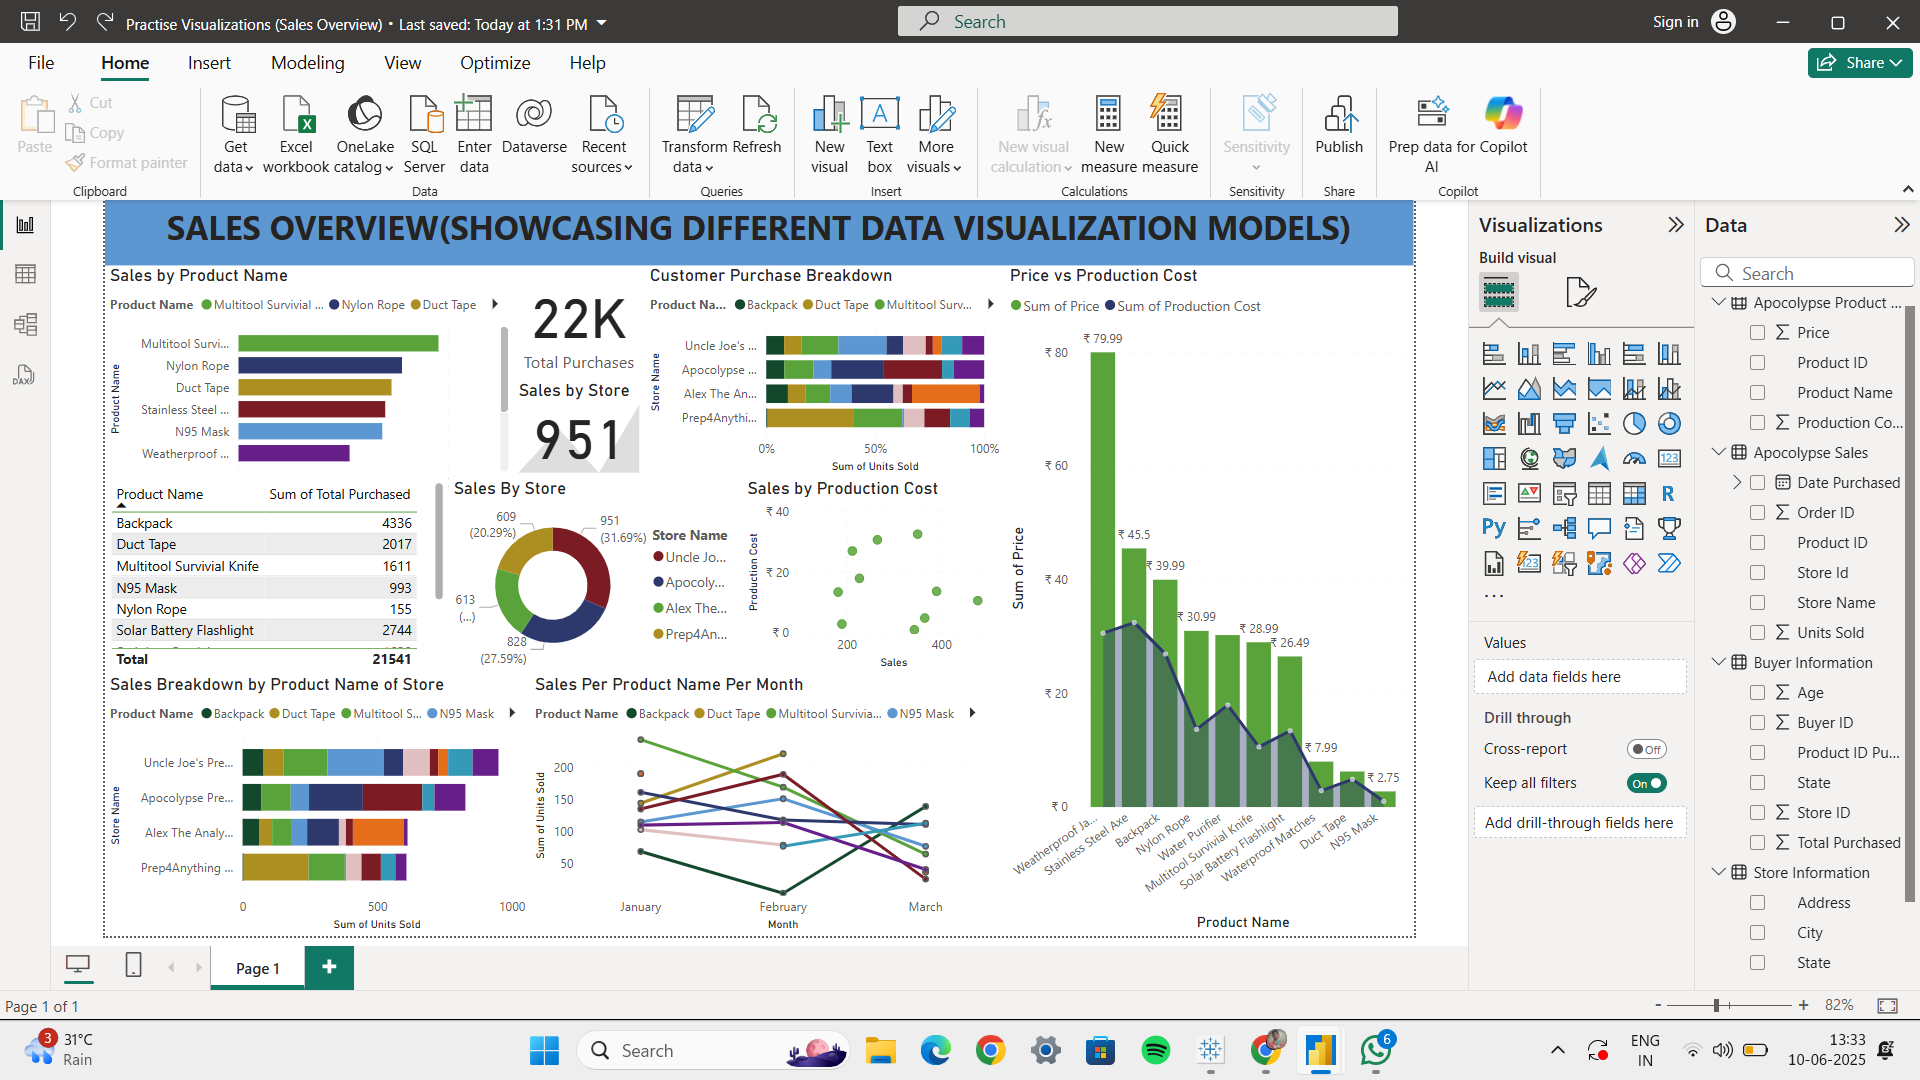

What the dashboard file says about the page in this screenshot:
{"tool":"powerbi","page":{"name":"Page 1","canvas":[1280,720],"ordinal":0},"visuals":[{"type":"barChart","title":"Sales by Product Name","fields":{"Y":["Apocolypse Sales.Units Sold"],"Category":["Apocolypse Product Information.Product Name"],"Series":["Apocolypse Product Information.Product Name"]},"box":[0,63.6,399.9,240.9],"z":0},{"type":"hundredPercentStackedBarChart","title":"Customer Purchase Breakdown","fields":{"Category":["Apocolypse Sales.Store Name"],"Y":["Apocolypse Sales.Units Sold"],"Series":["Apocolypse Product Information.Product Name"]},"box":[528,64,352,208],"z":1000},{"type":"barChart","title":"Sales Breakdown by Product Name of Store","fields":{"Y":["Apocolypse Sales.Units Sold"],"Category":["Apocolypse Sales.Store Name"],"Series":["Apocolypse Product Information.Product Name"]},"box":[0,464,416,256],"z":2000},{"type":"lineChart","title":"Sales Per Product Name Per Month","fields":{"Category":["Apocolypse Sales.Date Purchased.Variation.Date Hierarchy.Month","Apocolypse Sales.Date Purchased.Variation.Date Hierarchy.Day"],"Y":["Apocolypse Sales.Units Sold"],"Series":["Apocolypse Product Information.Product Name"]},"box":[416,464,448,256],"z":3000},{"type":"lineStackedColumnComboChart","title":"Price vs  Production Cost","fields":{"Category":["Apocolypse Product Information.Product Name"],"Y":["Apocolypse Product Information.Price"],"Y2":["Apocolypse Product Information.Production Cost"]},"box":[880,64,400,656],"z":4000},{"type":"donutChart","title":"Sales By Store","fields":{"Category":["Store Information.Store Name"],"Y":["Apocolypse Sales.Units Sold"]},"box":[336,272,288,192],"z":5000},{"type":"card","fields":{"Values":["Buyer Information.Total Purchased"]},"box":[400,64,128,112],"z":6000},{"type":"scatterChart","fields":{"X":["Apocolypse Sales.Units Sold"],"Y":["Apocolypse Product Information.Production Cost"]},"box":[624,272,256,192],"z":7000},{"type":"kpi","title":"Sales by Store","fields":{"Indicator":["Apocolypse Sales.Units Sold"],"TrendLine":["Apocolypse Sales.Store Name"]},"box":[400,176,128,96],"z":8000},{"type":"tableEx","fields":{"Values":["Apocolypse Product Information.Product Name","Buyer Information.Total Purchased"]},"box":[0,272,336,192],"z":9000},{"type":"textbox","box":[0,0,1280,64],"z":10000}]}

Visuals, with their boxes on the page's 1280x720 design canvas (x1, y1, x2, y2). These are canvas units, not pixel positions in the 1920x1080 screenshot, which may show the page scaled, cropped or inside an application window:
"Sales by Product Name" barChart: bbox=[0, 64, 400, 304]
"Customer Purchase Breakdown" hundredPercentStackedBarChart: bbox=[528, 64, 880, 272]
"Sales Breakdown by Product Name of Store" barChart: bbox=[0, 464, 416, 720]
"Sales Per Product Name Per Month" lineChart: bbox=[416, 464, 864, 720]
"Price vs  Production Cost" lineStackedColumnComboChart: bbox=[880, 64, 1280, 720]
"Sales By Store" donutChart: bbox=[336, 272, 624, 464]
card - Buyer Information.Total Purchased: bbox=[400, 64, 528, 176]
scatterChart - Apocolypse Sales.Units Sold x Apocolypse Product Information.Production Cost: bbox=[624, 272, 880, 464]
"Sales by Store" kpi: bbox=[400, 176, 528, 272]
tableEx - Apocolypse Product Information.Product Name x Buyer Information.Total Purchased: bbox=[0, 272, 336, 464]
textbox: bbox=[0, 0, 1280, 64]
